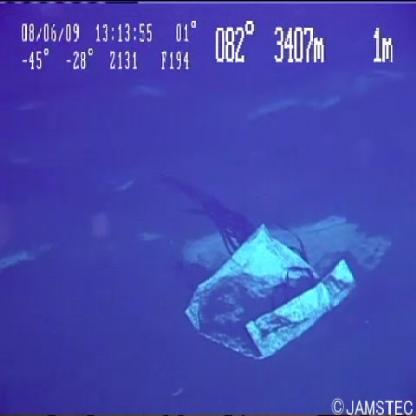Rác: (170, 195, 392, 370)
